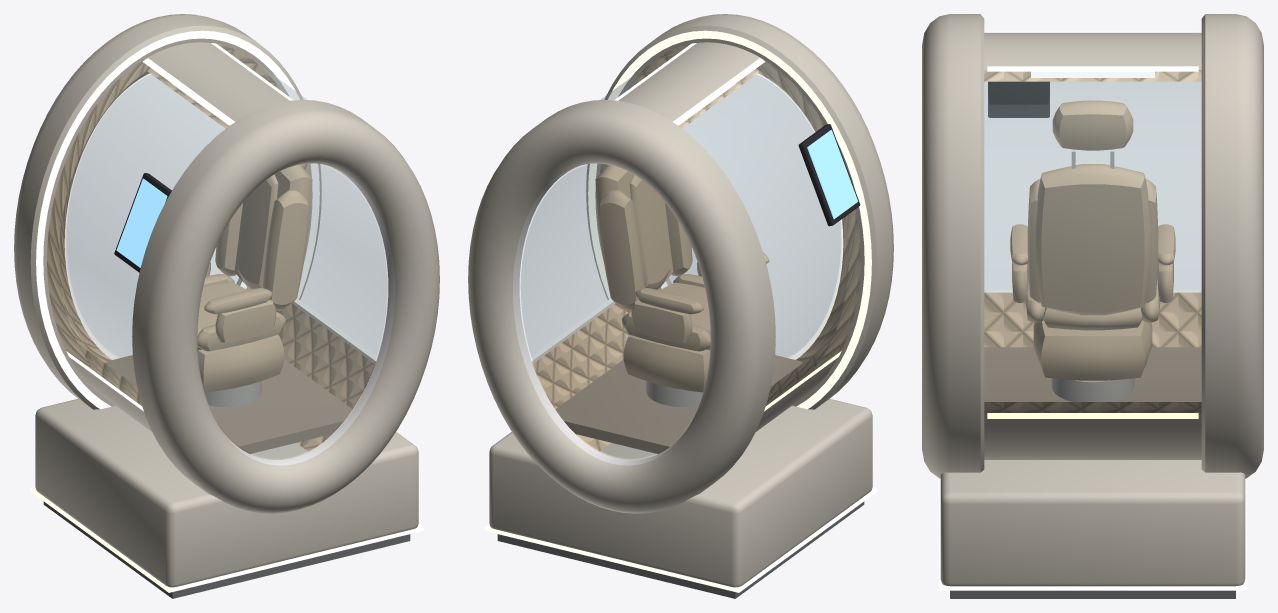
Rendered from solo-v3.glb.
The picture shows the model from 3 angles, left to right: view 1: azimuth 30°, elevation 25°; view 2: azimuth 150°, elevation 25°; view 3: azimuth 270°, elevation 25°; orthographic projection. The views are drawn at different scales.
Visible parts, largest first — view 1: govde_on, on_cam, kaide, yan_cam, govde_arka, arka_cam, yan_cam.001, ic_zemin, ic_arka, orta_ic.001, orta_govde, koltuk_kanat.001 (+14 smaller); view 2: govde_arka, arka_cam, kaide, yan_cam, on_cam, govde_on, yan_cam.001, ic_zemin, orta_ic.001, ic_on, orta_govde, koltuk_kanat (+15 smaller); view 3: yan_cam.001, kaide, govde_arka, govde_on, yan_cam, koltuk_sirt, orta_govde.001, orta_govde, orta_ic.001, ic_zemin, koltuk_govde, koltuk_bas (+15 smaller).
Part boxes in pixels (x1=…): govde_on: x1=132, y1=100, x2=439, y2=513; on_cam: x1=197, y1=164, x2=386, y2=458; kaide: x1=35, y1=399, x2=418, y2=587; yan_cam: x1=47, y1=60, x2=228, y2=405; govde_arka: x1=14, y1=14, x2=321, y2=409; arka_cam: x1=67, y1=75, x2=240, y2=357; yan_cam.001: x1=218, y1=44, x2=387, y2=360; ic_zemin: x1=105, y1=355, x2=352, y2=453; ic_arka: x1=47, y1=44, x2=307, y2=375; orta_ic.001: x1=77, y1=303, x2=375, y2=451; orta_govde: x1=144, y1=42, x2=289, y2=121; koltuk_kanat.001: x1=263, y1=190, x2=307, y2=310; govde_arka: x1=468, y1=100, x2=775, y2=513; arka_cam: x1=521, y1=164, x2=710, y2=458; kaide: x1=489, y1=399, x2=872, y2=587; yan_cam: x1=679, y1=60, x2=860, y2=405; on_cam: x1=667, y1=75, x2=840, y2=357; govde_on: x1=586, y1=14, x2=893, y2=409; yan_cam.001: x1=520, y1=44, x2=689, y2=360; ic_zemin: x1=555, y1=355, x2=802, y2=453; orta_ic.001: x1=532, y1=303, x2=830, y2=451; ic_on: x1=600, y1=44, x2=860, y2=375; orta_govde: x1=618, y1=42, x2=763, y2=121; koltuk_kanat: x1=600, y1=190, x2=644, y2=310; yan_cam.001: x1=984, y1=70, x2=1201, y2=414; kaide: x1=940, y1=460, x2=1245, y2=586; govde_arka: x1=1201, y1=14, x2=1263, y2=478; govde_on: x1=922, y1=14, x2=984, y2=478; yan_cam: x1=985, y1=32, x2=1200, y2=291; koltuk_sirt: x1=1035, y1=164, x2=1150, y2=315; orta_govde.001: x1=984, y1=415, x2=1201, y2=459; orta_govde: x1=984, y1=33, x2=1201, y2=69; orta_ic.001: x1=984, y1=292, x2=1201, y2=414; ic_zemin: x1=984, y1=347, x2=1201, y2=401; koltuk_govde: x1=1033, y1=320, x2=1152, y2=380; koltuk_bas: x1=1052, y1=100, x2=1133, y2=150.
Size of the model in its own units: 1.2 by 1.8 by 1.1.
12 materials, 1 textured.
